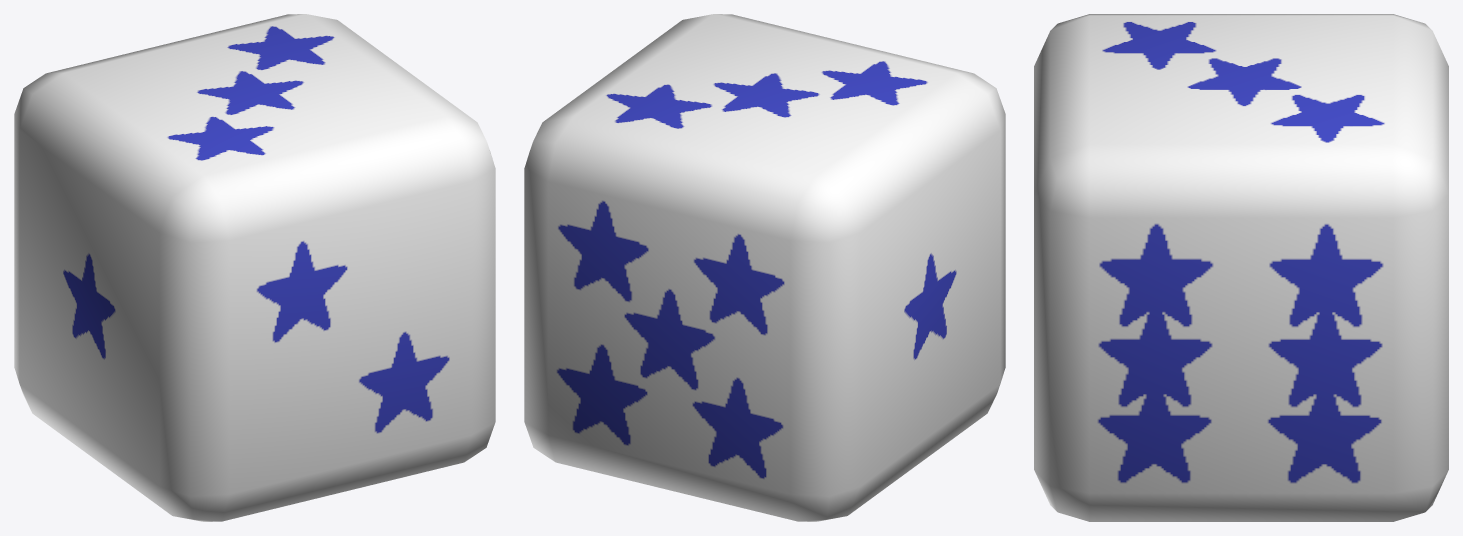
Rendered from Die.fbx.
The picture shows the model from 3 angles, left to right: view 1: azimuth 30°, elevation 25°; view 2: azimuth 150°, elevation 25°; view 3: azimuth 270°, elevation 25°; orthographic projection. The views are drawn at different scales.
Visible parts, largest first — view 1: Die; view 2: Die; view 3: Die.
Part boxes in pixels (box(x1,y1,x2,y2)): Die: box(14, 14, 495, 521); Die: box(524, 14, 1005, 521); Die: box(1034, 14, 1448, 521).
Size of the model in its own units: 200 by 200 by 200.
